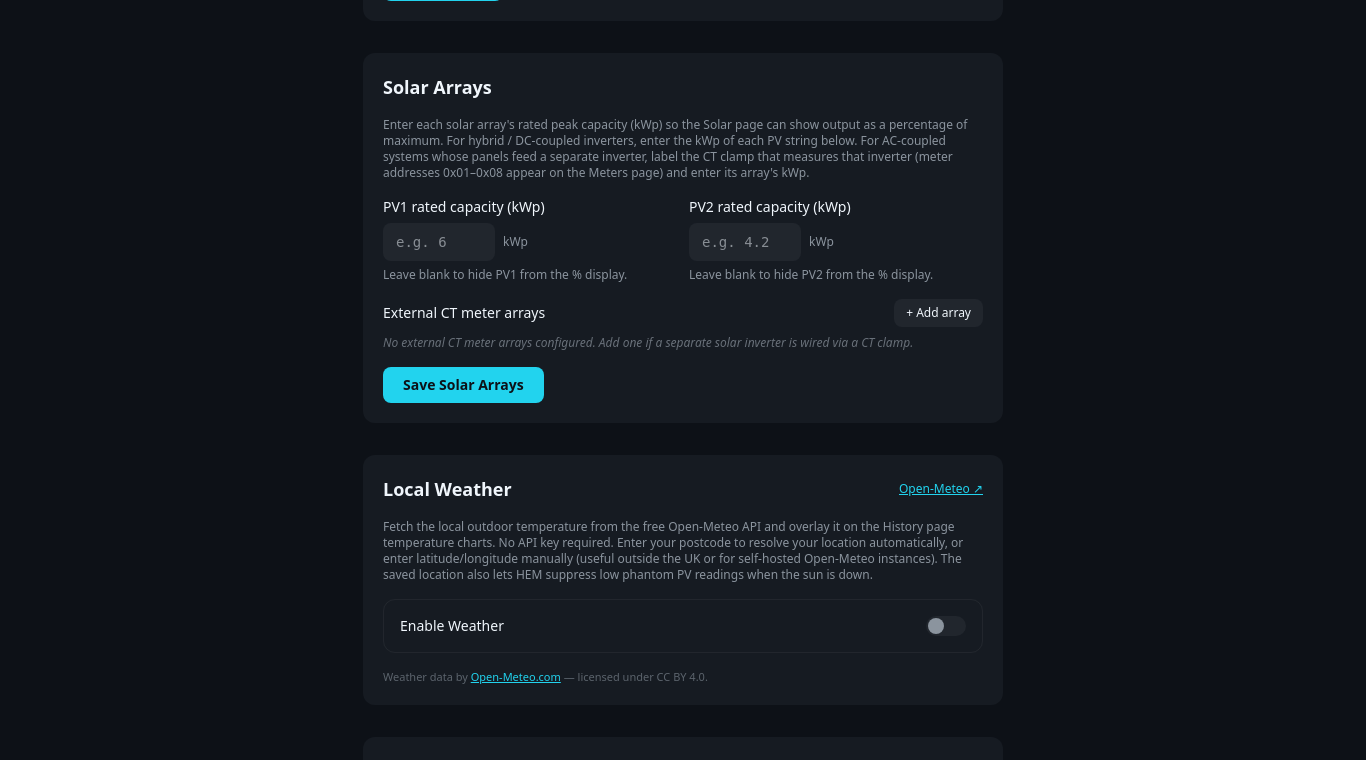
<SettingsPage/> — save handlers & validation › solar arrays save (issue #110) › saves pv1/pv2 ratings and an empty CT array list
The width and height of the screenshot is (1366, 760).
(page scrolled)
What coordinates should you click on to do the following:
click the button with test id "solar-arrays-save"
I would click on:
 (463, 385)
Its box is [383,367,544,403].
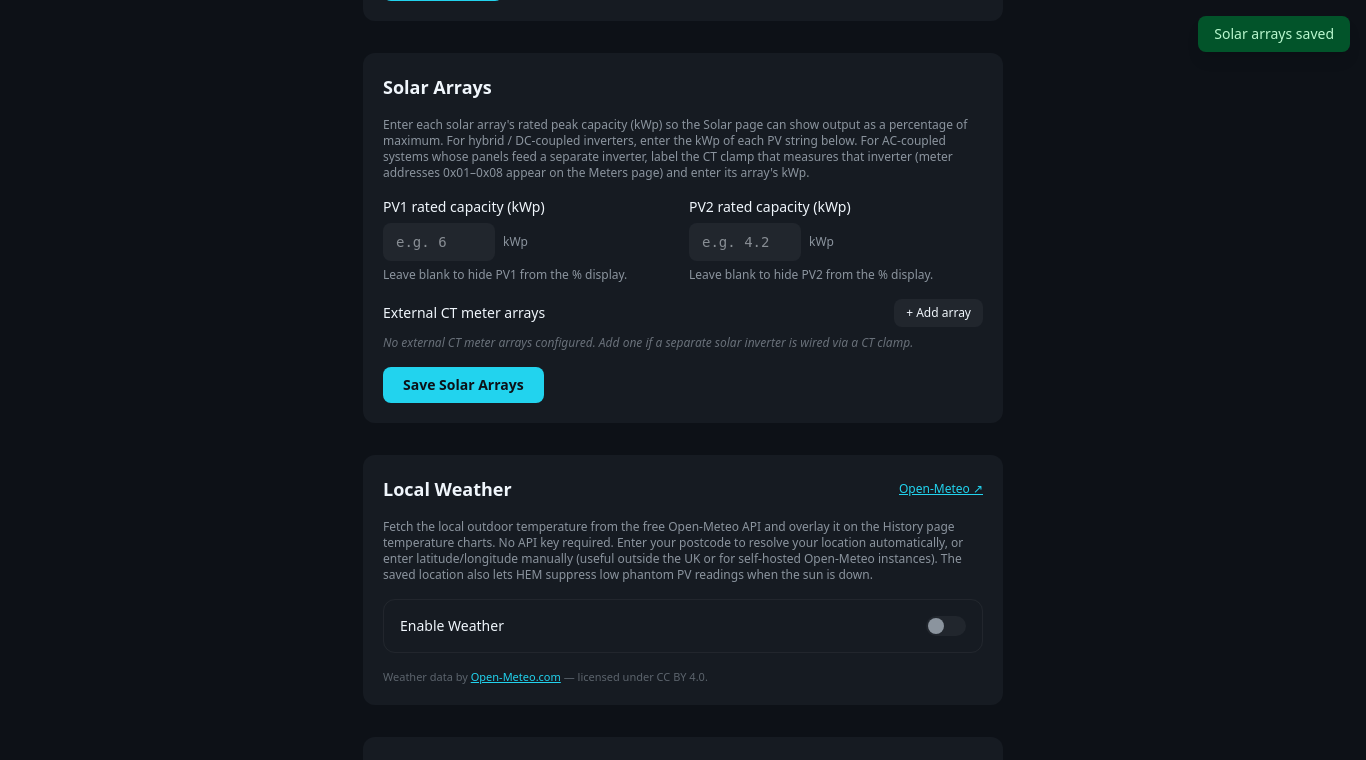
Expected: the text "Solar arrays saved" is shown, [1198,16,1350,52]
